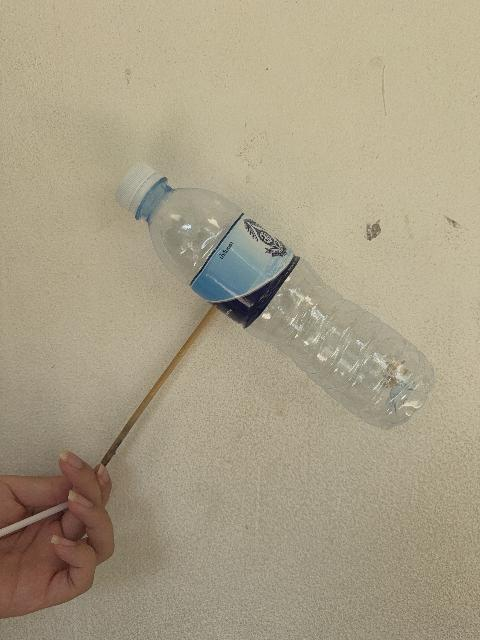bottle: (116, 164, 434, 428)
